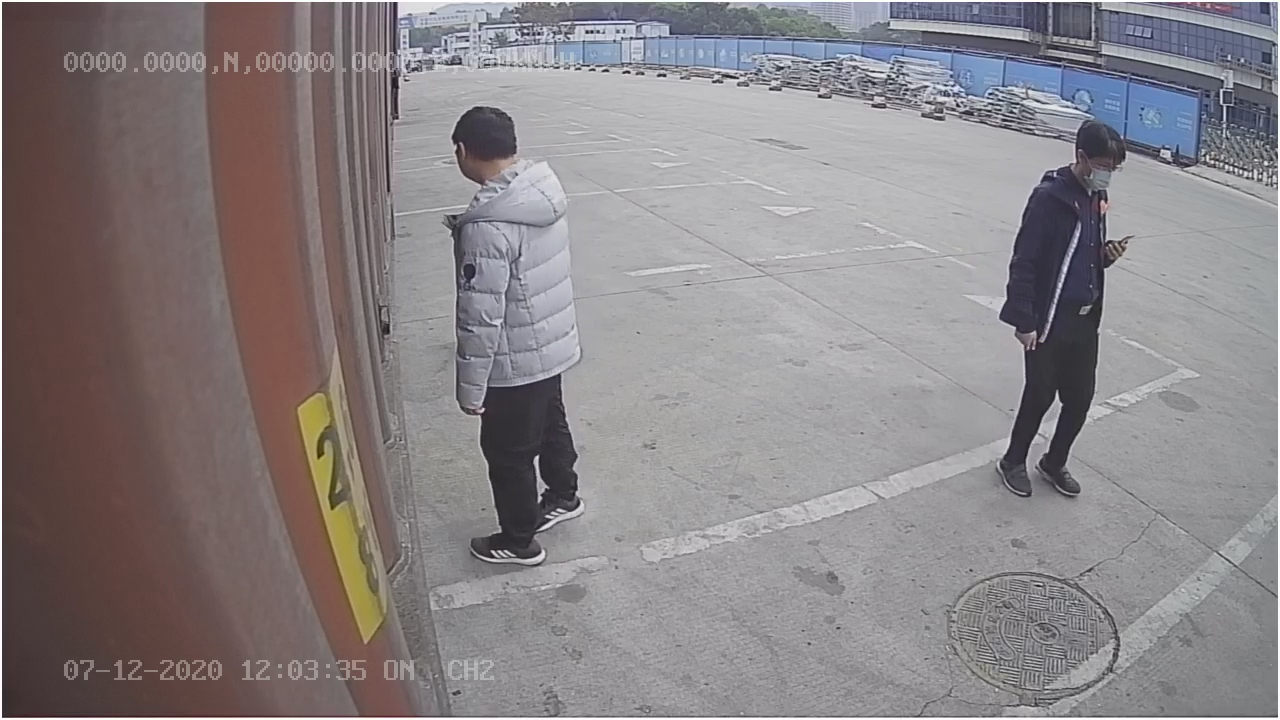person: (434, 97, 612, 572), (991, 103, 1127, 514)
